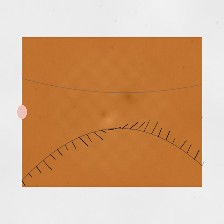corneal_ulcer: (82, 96, 130, 135)
